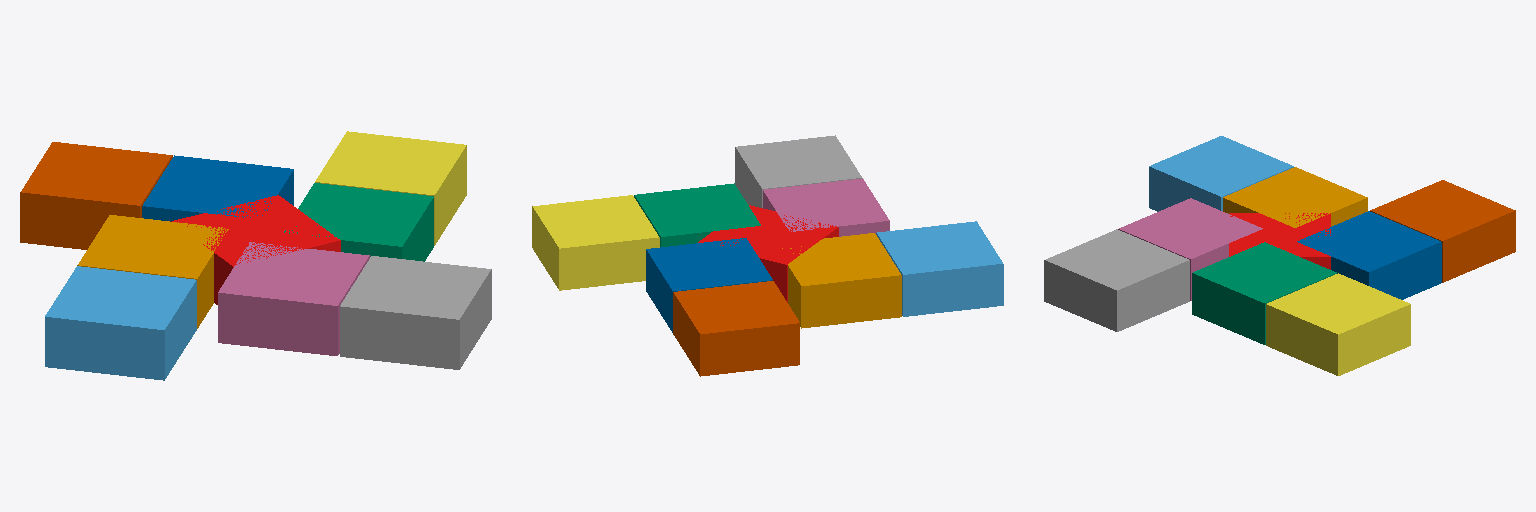
URDF robot description (rob):
<?xml version='1.0' encoding='UTF-8'?>
<robot name="rob">
  <link name="set5_arm1">
    <inertial>
      <origin xyz="0.0 0.34 0.0" rpy="0.0 0.0 0.0"/>
      <mass value="1.0"/>
      <inertia ixx="0.0" ixy="0.0" ixz="0.0" iyy="0.0" iyz="0.0" izz="0.0"/>
    </inertial>
    <visual>
      <geometry>
        <box size="0.67 0.67 0.3 "/>
      </geometry>
      <origin xyz="0.0 0.34 0.0" rpy="0.0 0.0 0.0"/>
    </visual>
    <collision>
      <geometry>
        <box size="0.67 0.67 0.3 "/>
      </geometry>
      <origin xyz="0.0 0.34 0.0" rpy="0.0 0.0 0.0"/>
    </collision>
  </link>
  <link name="set5_arm2">
    <inertial>
      <origin xyz="0.0 0.34 0.0" rpy="0.0 0.0 0.0"/>
      <mass value="1.0"/>
      <inertia ixx="0.0" ixy="0.0" ixz="0.0" iyy="0.0" iyz="0.0" izz="0.0"/>
    </inertial>
    <visual>
      <geometry>
        <box size="0.67 0.67 0.3 "/>
      </geometry>
      <origin xyz="0.0 0.34 0.0" rpy="0.0 0.0 0.0"/>
    </visual>
    <collision>
      <geometry>
        <box size="0.67 0.67 0.3 "/>
      </geometry>
      <origin xyz="0.0 0.34 0.0" rpy="0.0 0.0 0.0"/>
    </collision>
  </link>
  <link name="set6_arm1">
    <inertial>
      <origin xyz="0.0 0.34 0.0" rpy="0.0 0.0 0.0"/>
      <mass value="1.0"/>
      <inertia ixx="0.0" ixy="0.0" ixz="0.0" iyy="0.0" iyz="0.0" izz="0.0"/>
    </inertial>
    <visual>
      <geometry>
        <box size="0.67 0.67 0.3 "/>
      </geometry>
      <origin xyz="0.0 0.34 0.0" rpy="0.0 0.0 0.0"/>
    </visual>
    <collision>
      <geometry>
        <box size="0.67 0.67 0.3 "/>
      </geometry>
      <origin xyz="0.0 0.34 0.0" rpy="0.0 0.0 0.0"/>
    </collision>
  </link>
  <link name="set6_arm2">
    <inertial>
      <origin xyz="0.0 0.34 0.0" rpy="0.0 0.0 0.0"/>
      <mass value="1.0"/>
      <inertia ixx="0.0" ixy="0.0" ixz="0.0" iyy="0.0" iyz="0.0" izz="0.0"/>
    </inertial>
    <visual>
      <geometry>
        <box size="0.67 0.67 0.3 "/>
      </geometry>
      <origin xyz="0.0 0.34 0.0" rpy="0.0 0.0 0.0"/>
    </visual>
    <collision>
      <geometry>
        <box size="0.67 0.67 0.3 "/>
      </geometry>
      <origin xyz="0.0 0.34 0.0" rpy="0.0 0.0 0.0"/>
    </collision>
  </link>
  <link name="set7_arm1">
    <inertial>
      <origin xyz="0.0 0.34 0.0" rpy="0.0 0.0 0.0"/>
      <mass value="1.0"/>
      <inertia ixx="0.0" ixy="0.0" ixz="0.0" iyy="0.0" iyz="0.0" izz="0.0"/>
    </inertial>
    <visual>
      <geometry>
        <box size="0.67 0.67 0.3 "/>
      </geometry>
      <origin xyz="0.0 0.34 0.0" rpy="0.0 0.0 0.0"/>
    </visual>
    <collision>
      <geometry>
        <box size="0.67 0.67 0.3 "/>
      </geometry>
      <origin xyz="0.0 0.34 0.0" rpy="0.0 0.0 0.0"/>
    </collision>
  </link>
  <link name="set7_arm2">
    <inertial>
      <origin xyz="0.0 0.34 0.0" rpy="0.0 0.0 0.0"/>
      <mass value="1.0"/>
      <inertia ixx="0.0" ixy="0.0" ixz="0.0" iyy="0.0" iyz="0.0" izz="0.0"/>
    </inertial>
    <visual>
      <geometry>
        <box size="0.67 0.67 0.3 "/>
      </geometry>
      <origin xyz="0.0 0.34 0.0" rpy="0.0 0.0 0.0"/>
    </visual>
    <collision>
      <geometry>
        <box size="0.67 0.67 0.3 "/>
      </geometry>
      <origin xyz="0.0 0.34 0.0" rpy="0.0 0.0 0.0"/>
    </collision>
  </link>
  <link name="set8_arm1">
    <inertial>
      <origin xyz="0.0 0.34 0.0" rpy="0.0 0.0 0.0"/>
      <mass value="1.0"/>
      <inertia ixx="0.0" ixy="0.0" ixz="0.0" iyy="0.0" iyz="0.0" izz="0.0"/>
    </inertial>
    <visual>
      <geometry>
        <box size="0.67 0.67 0.3 "/>
      </geometry>
      <origin xyz="0.0 0.34 0.0" rpy="0.0 0.0 0.0"/>
    </visual>
    <collision>
      <geometry>
        <box size="0.67 0.67 0.3 "/>
      </geometry>
      <origin xyz="0.0 0.34 0.0" rpy="0.0 0.0 0.0"/>
    </collision>
  </link>
  <link name="set8_arm2">
    <inertial>
      <origin xyz="0.0 0.34 0.0" rpy="0.0 0.0 0.0"/>
      <mass value="1.0"/>
      <inertia ixx="0.0" ixy="0.0" ixz="0.0" iyy="0.0" iyz="0.0" izz="0.0"/>
    </inertial>
    <visual>
      <geometry>
        <box size="0.67 0.67 0.3 "/>
      </geometry>
      <origin xyz="0.0 0.34 0.0" rpy="0.0 0.0 0.0"/>
    </visual>
    <collision>
      <geometry>
        <box size="0.67 0.67 0.3 "/>
      </geometry>
      <origin xyz="0.0 0.34 0.0" rpy="0.0 0.0 0.0"/>
    </collision>
  </link>
  <link name="base_link">
    <inertial>
      <origin xyz="0.0 0.0 0.0" rpy="0.0 -0.0 0.0"/>
      <mass value="1.0"/>
      <inertia ixx="1.0" ixy="0.0" ixz="0.0" iyy="1.0" iyz="0.0" izz="1.0"/>
    </inertial>
    <visual>
      <geometry>
        <box size="0.67 0.67 0.3 "/>
      </geometry>
      <material name="red"/>
      <origin xyz="0.0 0.0 0.0" rpy="0.0 -0.0 0.0"/>
    </visual>
    <collision>
      <geometry>
        <box size="0.67 0.67 0.3 "/>
      </geometry>
      <origin xyz="0.0 0.0 0.0" rpy="0.0 0.0 0.0"/>
    </collision>
  </link>
  <joint name="set5_jointBase" type="fixed">
    <limit effort="1.57" velocity="1.57" lower="-1.57" upper="1.57"/>
    <parent link="base_link"/>
    <child link="set5_arm1"/>
    <axis xyz="1. 0. 0."/>
    <origin xyz="-0.34 0.34 0.0" rpy="0.0 0.0 2.355"/>
  </joint>
  <joint name="set5_joint1" type="revolute">
    <limit effort="1.57" velocity="1.57" lower="-1.57" upper="1.57"/>
    <parent link="set5_arm1"/>
    <child link="set5_arm2"/>
    <axis xyz="1. 0. 0."/>
    <origin xyz="0.0 0.68 0.0" rpy="0.0 0.0 0.0"/>
  </joint>
  <joint name="set6_jointBase" type="fixed">
    <limit effort="1.57" velocity="1.57" lower="-1.57" upper="1.57"/>
    <parent link="base_link"/>
    <child link="set6_arm1"/>
    <axis xyz="1. 0. 0."/>
    <origin xyz="0.34 -0.34 0.0" rpy="0.0 0.0 -0.785"/>
  </joint>
  <joint name="set6_joint1" type="revolute">
    <limit effort="1.57" velocity="1.57" lower="-1.57" upper="1.57"/>
    <parent link="set6_arm1"/>
    <child link="set6_arm2"/>
    <axis xyz="1. 0. 0."/>
    <origin xyz="0.0 0.68 0.0" rpy="0.0 0.0 0.0"/>
  </joint>
  <joint name="set7_jointBase" type="fixed">
    <limit effort="1.57" velocity="1.57" lower="-1.57" upper="1.57"/>
    <parent link="base_link"/>
    <child link="set7_arm1"/>
    <axis xyz="1. 0. 0."/>
    <origin xyz="0.34 0.34 0.0" rpy="0.0 0.0 0.785"/>
  </joint>
  <joint name="set7_joint1" type="revolute">
    <limit effort="1.57" velocity="1.57" lower="-1.57" upper="1.57"/>
    <parent link="set7_arm1"/>
    <child link="set7_arm2"/>
    <axis xyz="1. 0. 0."/>
    <origin xyz="0.0 0.68 0.0" rpy="0.0 0.0 0.0"/>
  </joint>
  <joint name="set8_jointBase" type="fixed">
    <limit effort="1.57" velocity="1.57" lower="-1.57" upper="1.57"/>
    <parent link="base_link"/>
    <child link="set8_arm1"/>
    <axis xyz="1. 0. 0."/>
    <origin xyz="-0.34 -0.34 0.0" rpy="0.0 0.0 -2.355"/>
  </joint>
  <joint name="set8_joint1" type="revolute">
    <limit effort="1.57" velocity="1.57" lower="-1.57" upper="1.57"/>
    <parent link="set8_arm1"/>
    <child link="set8_arm2"/>
    <axis xyz="1. 0. 0."/>
    <origin xyz="0.0 0.68 0.0" rpy="0.0 0.0 0.0"/>
  </joint>
  <material name="red">
    <color rgba="0.969 0.129 0.122 1.   "/>
  </material>
</robot>

--- What the picture shows (computed from the rendered views, not written in the file) ---
The picture shows the robot from 3 angles, left to right: view 1: azimuth 30°, elevation 25°; view 2: azimuth 150°, elevation 25°; view 3: azimuth 270°, elevation 25°; orthographic projection.
Robot: rob — 9 links, 8 joints (4 revolute, 4 fixed); root link base_link; default pose: every joint at zero.
Links seen in each view (by area): view 1: set8_arm2, set5_arm2, set8_arm1, set7_arm2, set6_arm2, set6_arm1, set5_arm1, set7_arm1, base_link; view 2: set7_arm2, set6_arm2, set5_arm2, set5_arm1, set7_arm1, set8_arm2, set6_arm1, set8_arm1, base_link; view 3: set8_arm2, set6_arm2, set7_arm2, set6_arm1, set7_arm1, set5_arm2, set5_arm1, set8_arm1, base_link.
Boxes of the visible links, x1=… form: set8_arm2: x1=340, y1=256, x2=491, y2=369; set5_arm2: x1=45, y1=266, x2=196, y2=380; set8_arm1: x1=218, y1=242, x2=369, y2=355; set7_arm2: x1=20, y1=142, x2=172, y2=249; set6_arm2: x1=315, y1=131, x2=466, y2=245; set6_arm1: x1=284, y1=183, x2=433, y2=261; set5_arm1: x1=77, y1=215, x2=228, y2=328; set7_arm1: x1=142, y1=155, x2=293, y2=221; base_link: x1=171, y1=195, x2=340, y2=304; set7_arm2: x1=673, y1=281, x2=799, y2=376; set6_arm2: x1=532, y1=195, x2=659, y2=290; set5_arm2: x1=876, y1=221, x2=1003, y2=316; set5_arm1: x1=782, y1=233, x2=901, y2=328; set7_arm1: x1=646, y1=238, x2=772, y2=332; set8_arm2: x1=735, y1=135, x2=861, y2=207; set6_arm1: x1=634, y1=183, x2=760, y2=246; set8_arm1: x1=763, y1=178, x2=889, y2=236; base_link: x1=698, y1=205, x2=838, y2=302; set8_arm2: x1=1044, y1=229, x2=1189, y2=331; set6_arm2: x1=1266, y1=273, x2=1410, y2=375; set7_arm2: x1=1370, y1=180, x2=1515, y2=282; set6_arm1: x1=1192, y1=242, x2=1336, y2=344; set7_arm1: x1=1297, y1=211, x2=1441, y2=299; set5_arm2: x1=1149, y1=136, x2=1293, y2=211; set5_arm1: x1=1223, y1=167, x2=1367, y2=227; set8_arm1: x1=1118, y1=198, x2=1262, y2=300; base_link: x1=1229, y1=213, x2=1330, y2=269.
Size in the robot's own frame: 3.07 by 3.07 by 0.3 metres.
Geometry: primitives only (box / cylinder / sphere), no mesh files.